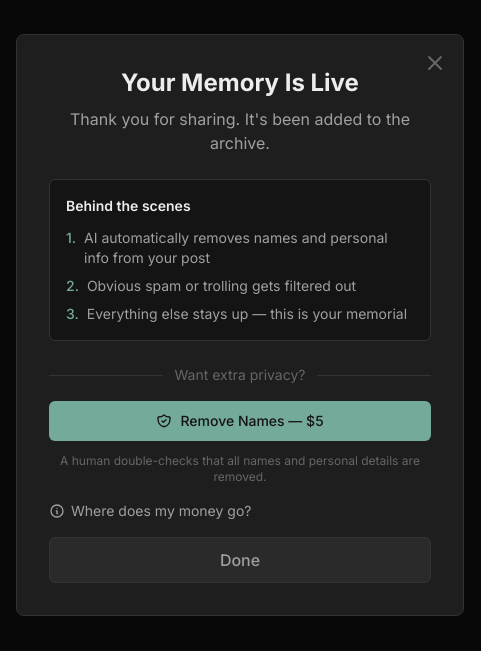
Test: SubmitSuccessModal › shows payment error when fetch fails
The image size is (481, 651).
Click the button with test id "scrub-button".
click(240, 421)  # box top-left (49, 401), bottom-right (431, 441)
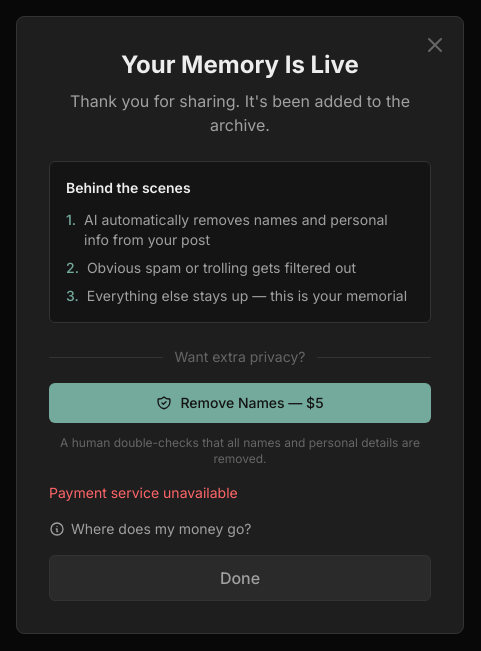
Expected: the text with test id "payment-error" reads "Payment service unavailable", top-left (49, 484), bottom-right (238, 501)
